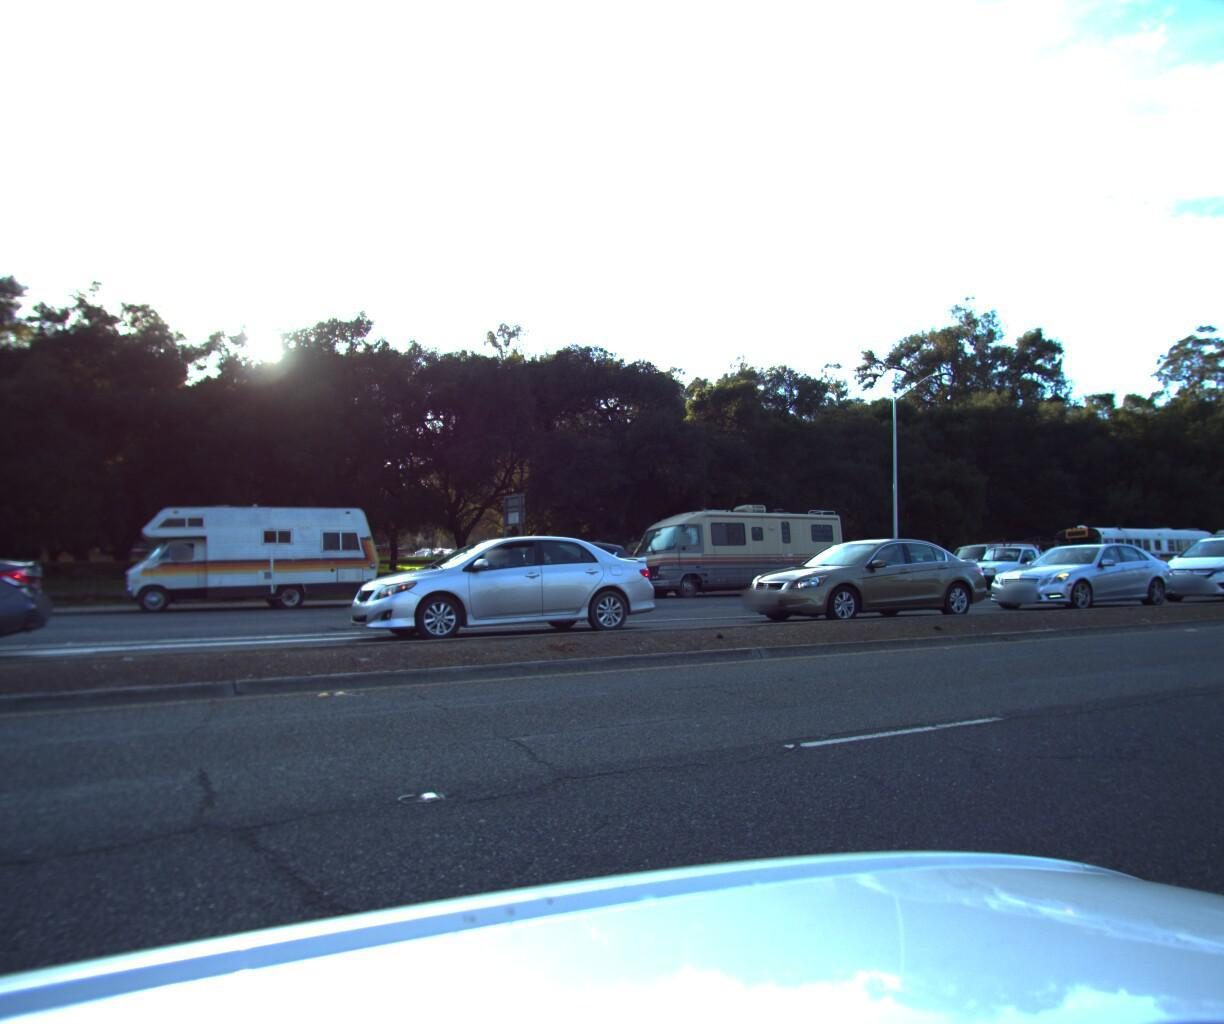bus: (1026, 514, 1212, 585)
car: (335, 526, 674, 651), (724, 526, 1004, 627), (409, 535, 656, 629), (975, 533, 1186, 612), (0, 516, 64, 711), (943, 532, 1080, 591), (1143, 522, 1224, 600)
other_vehicle: (121, 494, 385, 616), (611, 489, 849, 599), (926, 535, 1046, 587), (1182, 516, 1224, 579)
